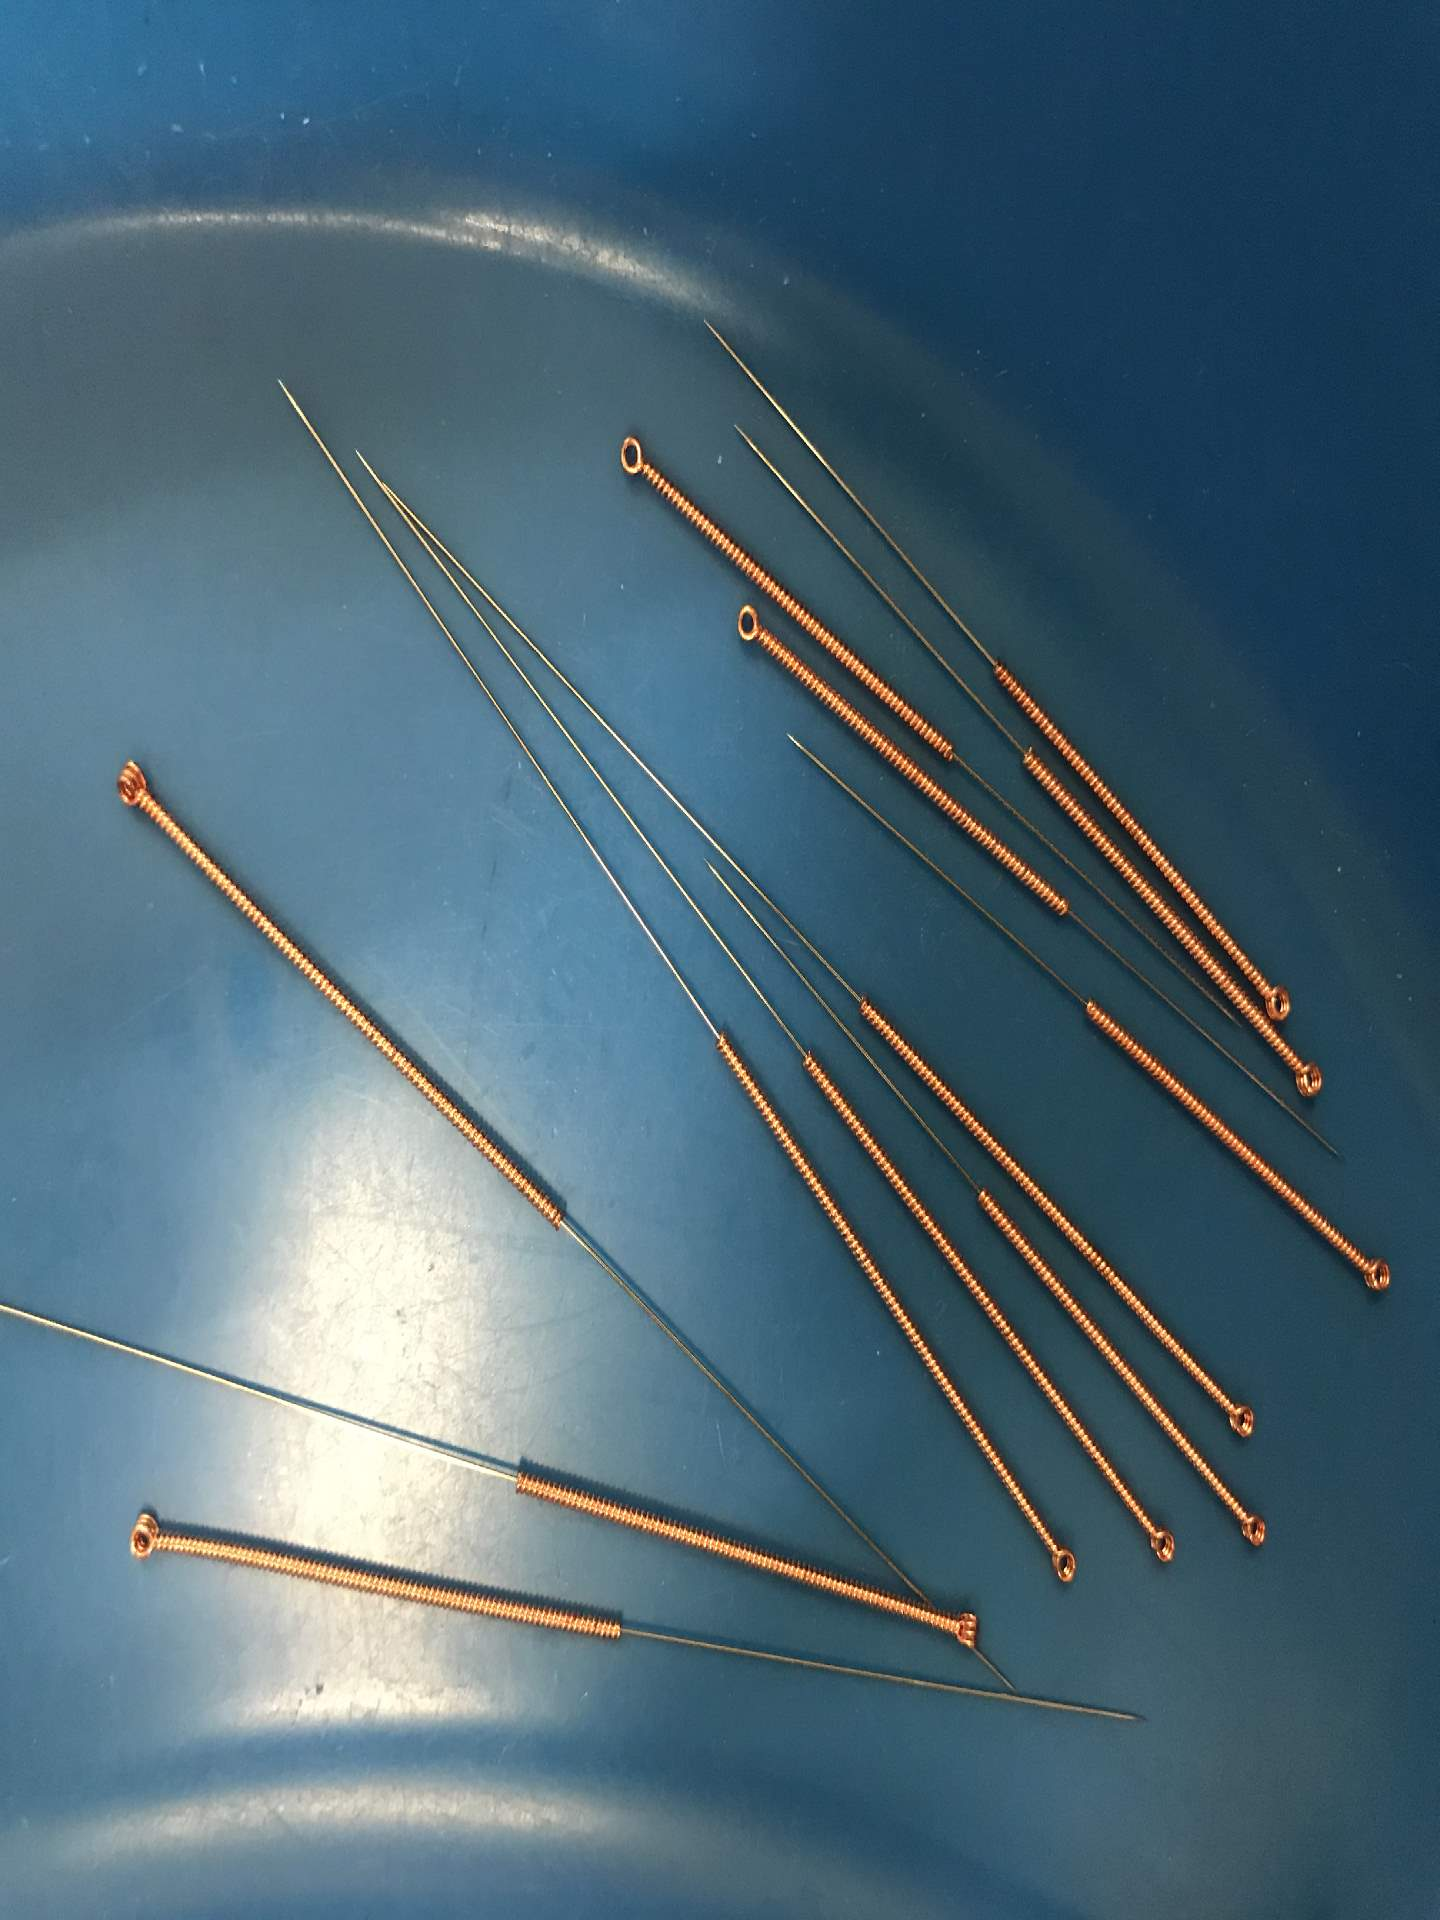needle: (95, 750, 162, 821), (599, 420, 666, 491), (113, 1501, 172, 1572), (1225, 1495, 1280, 1565), (1036, 1530, 1089, 1601), (1215, 1383, 1266, 1454), (1348, 1243, 1404, 1305), (1133, 1513, 1184, 1578), (933, 1603, 992, 1658), (1280, 1046, 1331, 1110), (1258, 955, 1305, 1025), (725, 596, 771, 664)
